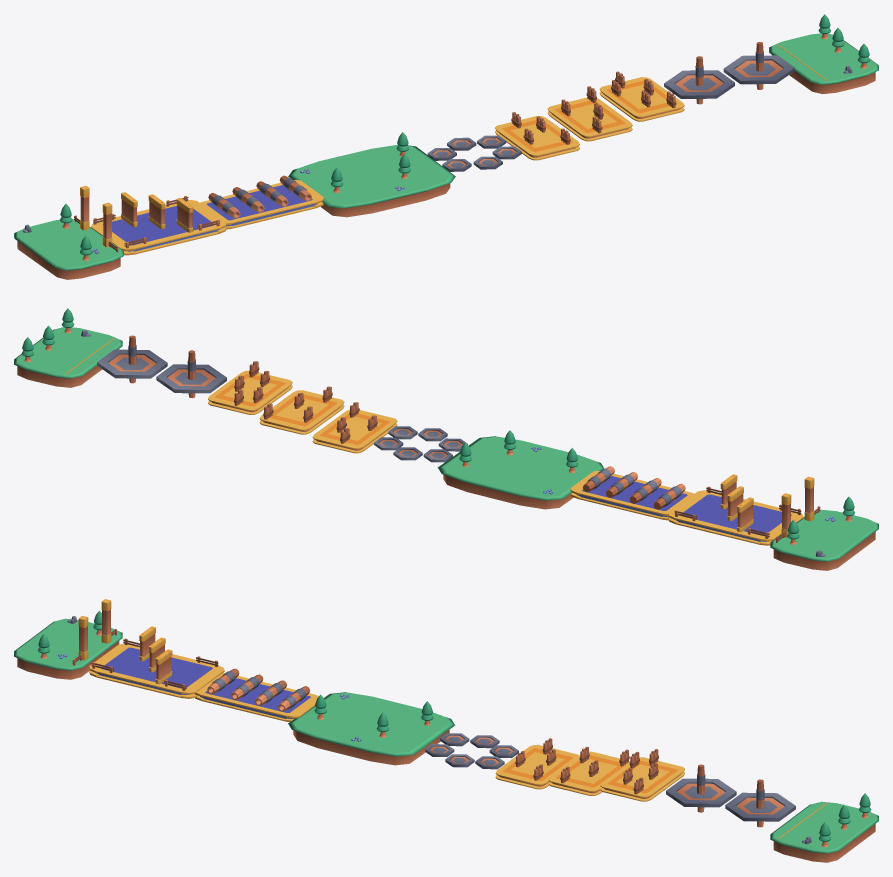
Rendered from level1.glb.
3 renders of one model, top to bottom at view 1: azimuth 30°, elevation 25°; view 2: azimuth 150°, elevation 25°; view 3: azimuth 330°, elevation 25°, orthographic.
Visible parts, largest first — view 1: block-grass-long.001, block1, block1.001, block-moving-blue, block-moving-blue.001, block-moving-large.006, block-moving-large.005, block-moving-large.007, coin-silver.007, coin-silver.006; view 2: block-grass-long.001, block1, block1.001, block-moving-blue, block-moving-blue.001, block-moving-large.006, block-moving-large.005, block-moving-large.007, coin-silver.007, coin-silver.006; view 3: block-grass-long.001, block1.001, block-moving-blue, block1, block-moving-blue.001, block-moving-large.007, block-moving-large.005, block-moving-large.006, coin-silver.007, coin-silver.006.
Part boxes in pixels (<box>): block-grass-long.001: <box>288,144,455,217</box>; block1: <box>14,219,123,279</box>; block1.001: <box>769,33,878,94</box>; block-moving-blue: <box>91,200,226,255</box>; block-moving-blue.001: <box>200,180,324,229</box>; block-moving-large.006: <box>547,97,632,141</box>; block-moving-large.005: <box>495,116,579,160</box>; block-moving-large.007: <box>599,77,684,121</box>; coin-silver.007: <box>723,55,794,84</box>; coin-silver.006: <box>664,70,734,98</box>; block-grass-long.001: <box>437,436,604,509</box>; block1: <box>770,510,878,570</box>; block1.001: <box>14,327,122,387</box>; block-moving-blue: <box>668,490,803,545</box>; block-moving-blue.001: <box>570,471,693,520</box>; block-moving-large.006: <box>259,390,344,434</box>; block-moving-large.005: <box>312,409,397,453</box>; block-moving-large.007: <box>208,370,292,414</box>; coin-silver.007: <box>97,349,167,378</box>; coin-silver.006: <box>156,364,226,393</box>; block-grass-long.001: <box>288,692,455,765</box>; block1.001: <box>770,801,878,862</box>; block-moving-blue: <box>89,643,224,698</box>; block1: <box>14,618,122,679</box>; block-moving-blue.001: <box>195,673,318,721</box>; block-moving-large.007: <box>600,757,684,801</box>; block-moving-large.005: <box>495,744,578,789</box>; block-moving-large.006: <box>548,751,630,795</box>; coin-silver.007: <box>725,792,795,821</box>; coin-silver.006: <box>666,778,736,807</box>.
Bounding box in the file's own units: 71.3 × 4.87 × 8.61.
1 material, 1 textured.
